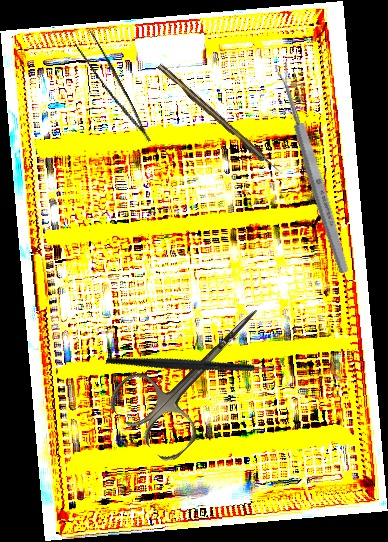Chopper: (104, 294, 285, 429)
Hook Surgical: (156, 62, 284, 178)
Iris Scissors: (102, 278, 292, 467)
Surgical Spoon: (273, 61, 352, 275)
Tissue Forceps: (71, 25, 151, 152)
